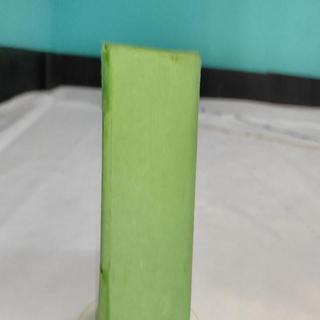greenbox: (97, 40, 202, 320)
